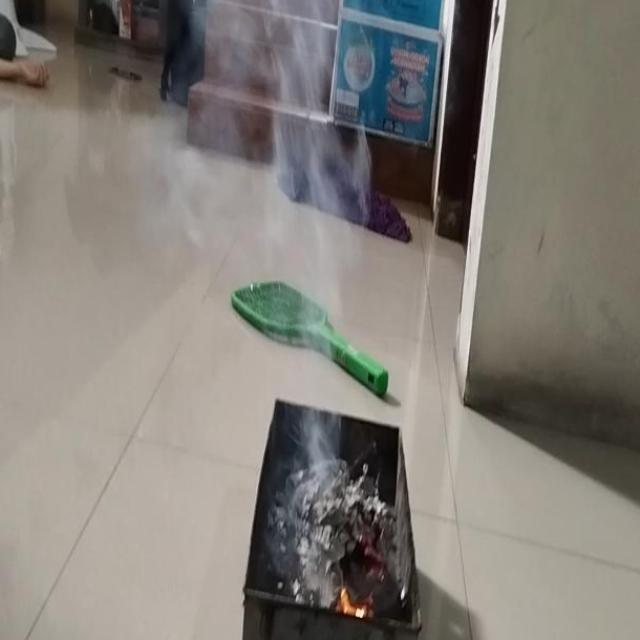fire: (198, 0, 374, 235), (267, 236, 364, 509)
smoke: (332, 584, 369, 624)
